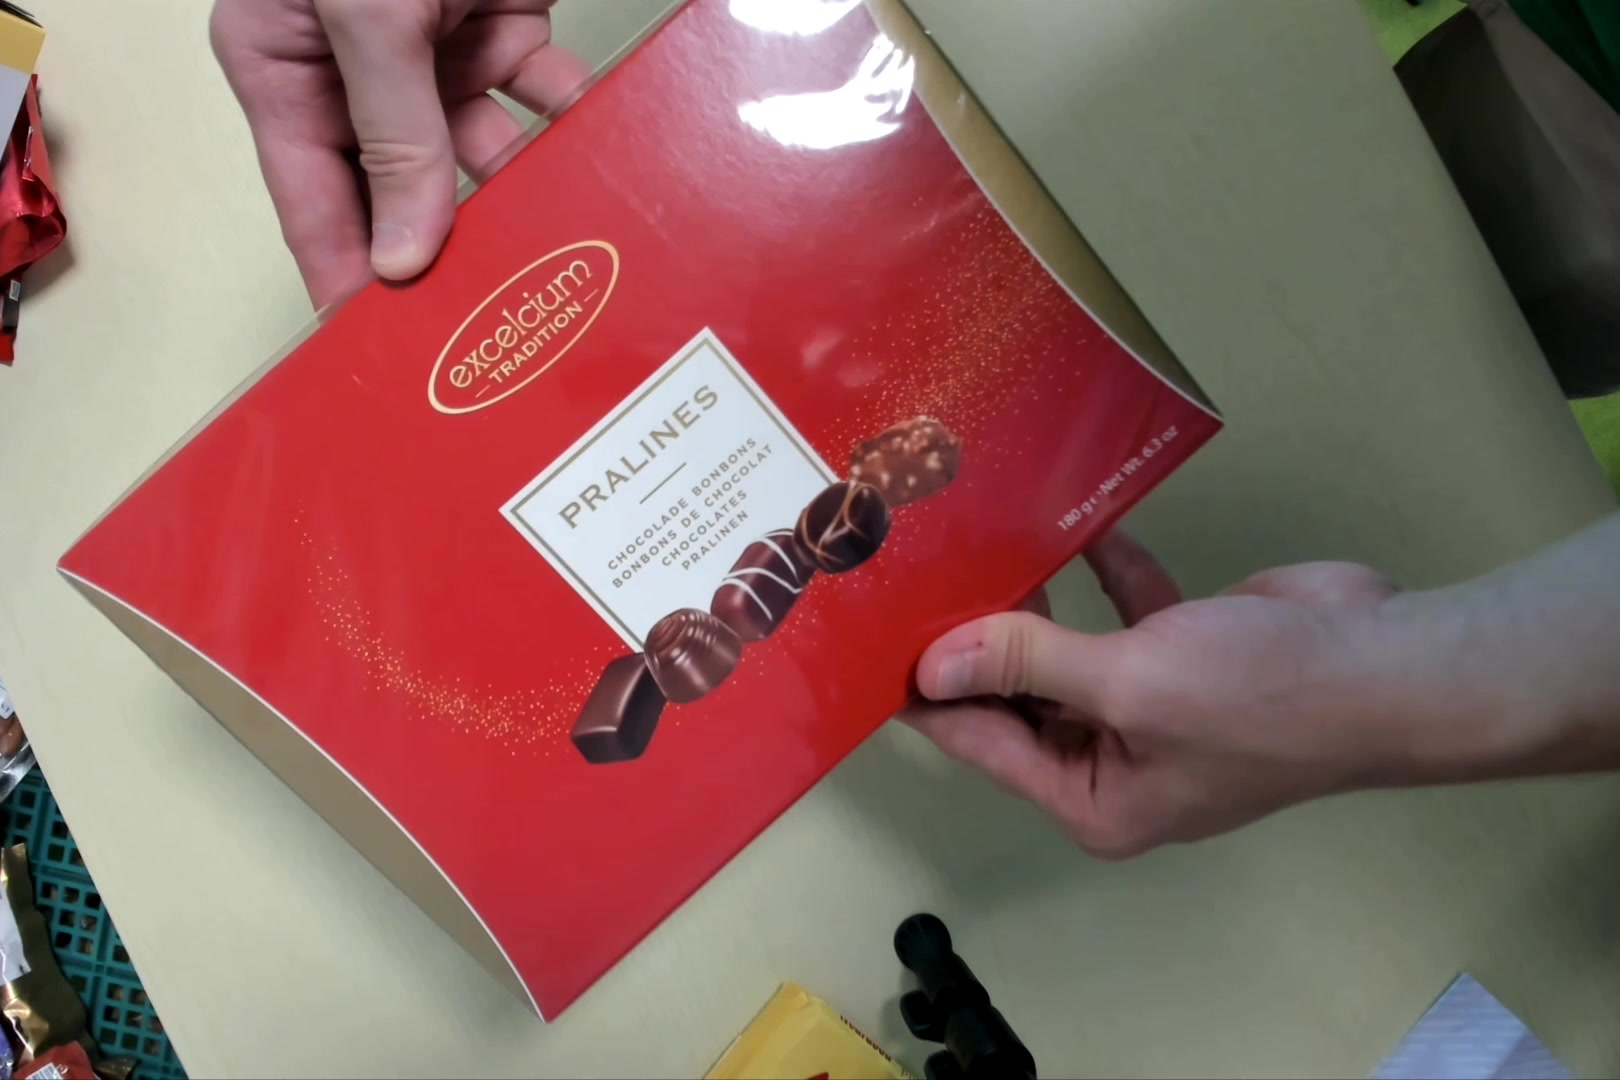SweetsChocolatesOthers_100-199g_NonHalal_NonHealthy: (71, 2, 1235, 1031)
